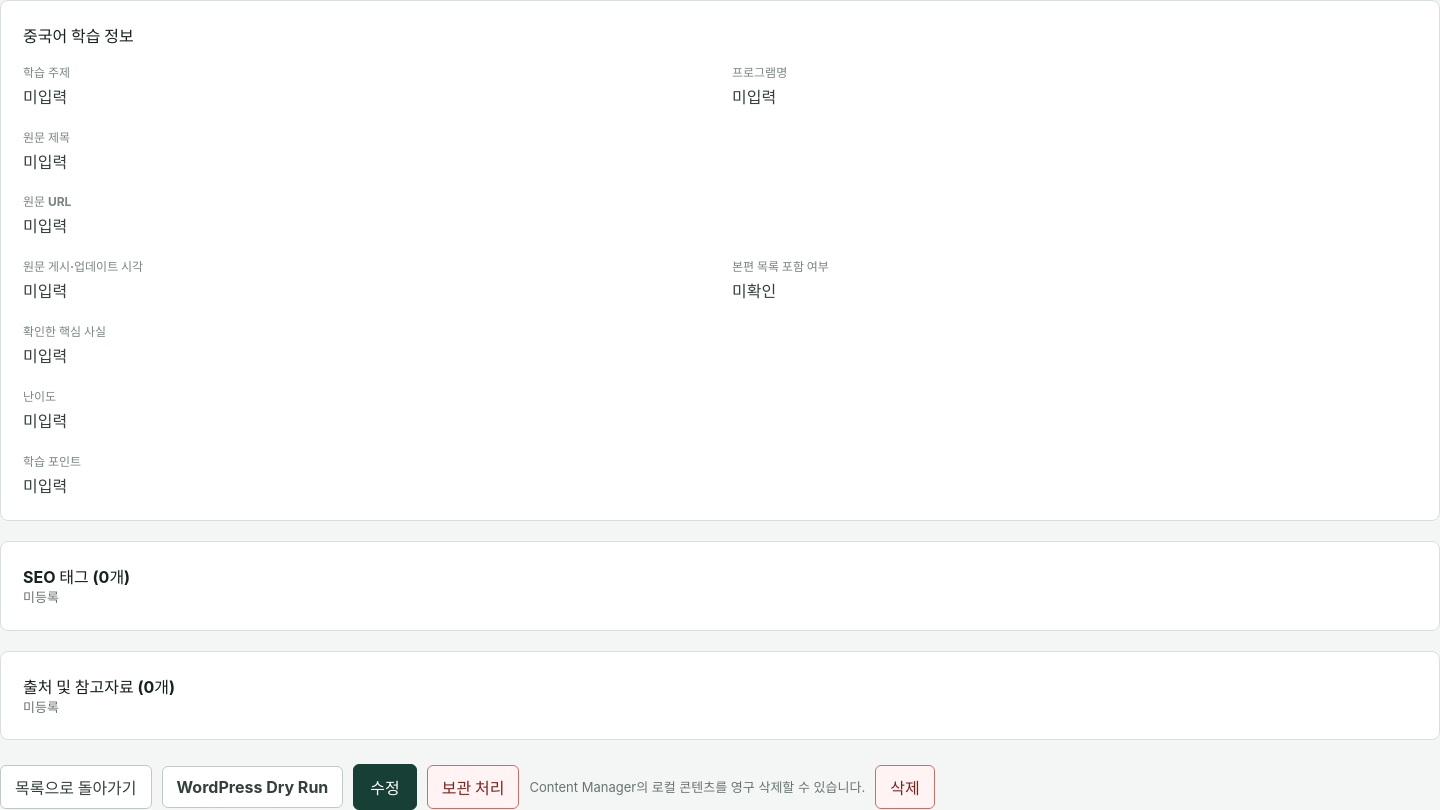
it: ContentDetailPage › archives after explicit confirmation and then hides duplicate archive action
(page scrolled)
Click the button "보관 처리": (473, 787) x1=427 y1=765 x2=520 y2=809
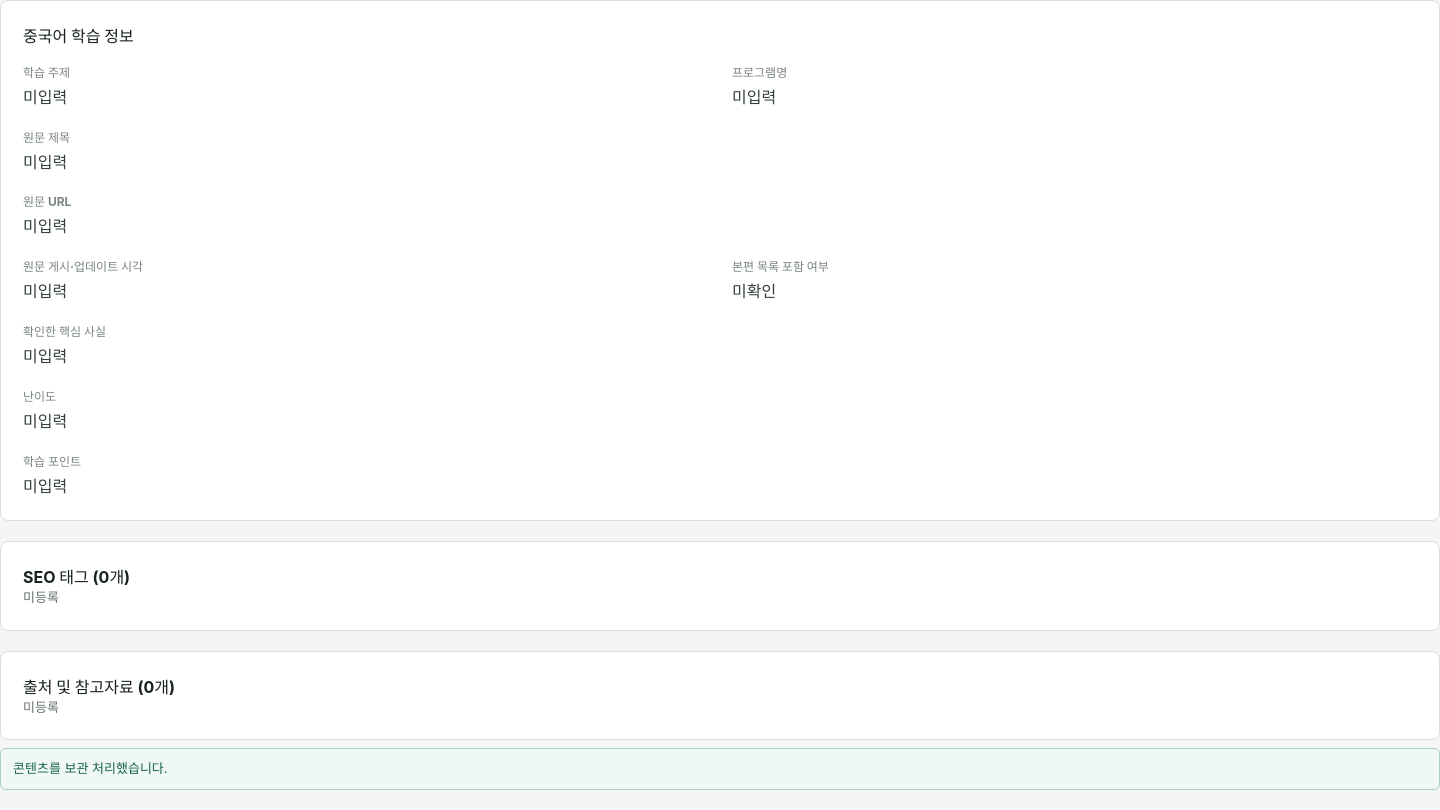
Now the text "콘텐츠를 보관 처리했습니다." is shown, box x1=0 y1=748 x2=1439 y2=790
